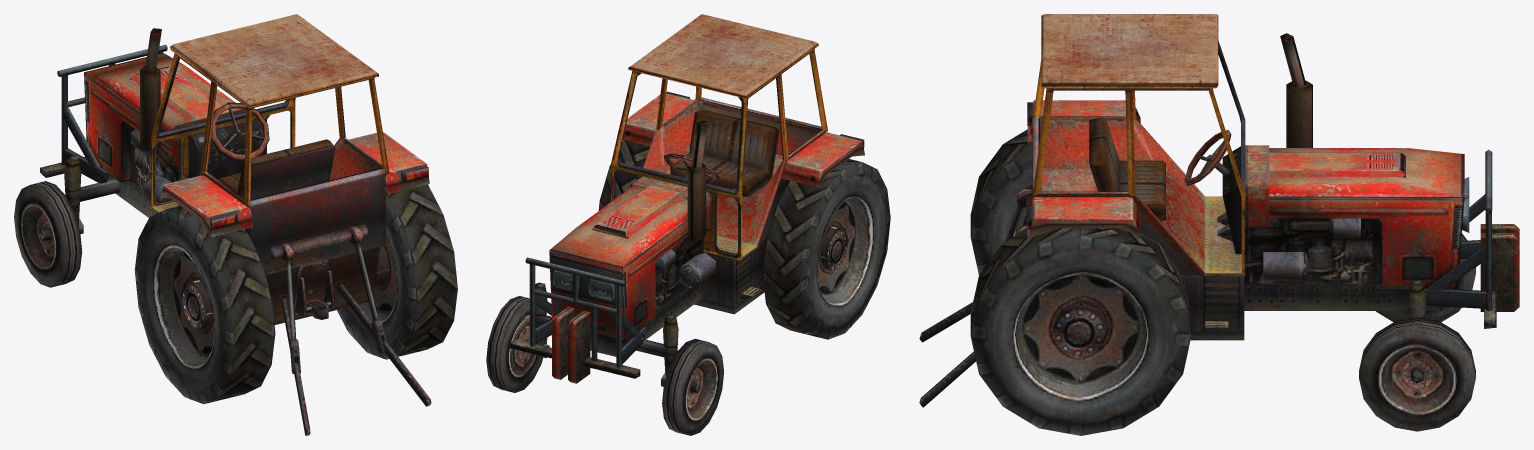
File: FRM0410001.fbx
3 views of the same model, side by side, from view 1: azimuth 30°, elevation 25°; view 2: azimuth 150°, elevation 25°; view 3: azimuth 270°, elevation 25° (orthographic). The views are drawn at different scales.
Visible parts, largest first — view 1: smFRM0410001; view 2: smFRM0410001; view 3: smFRM0410001.
Boxes of the visible parts, x1,y1,x2,y2 form: smFRM0410001: [14, 14, 457, 435]; smFRM0410001: [486, 14, 890, 435]; smFRM0410001: [919, 14, 1519, 435].
Size of the model in its own units: 221 by 271 by 450.
Materials: 1 (1 with a texture image).
